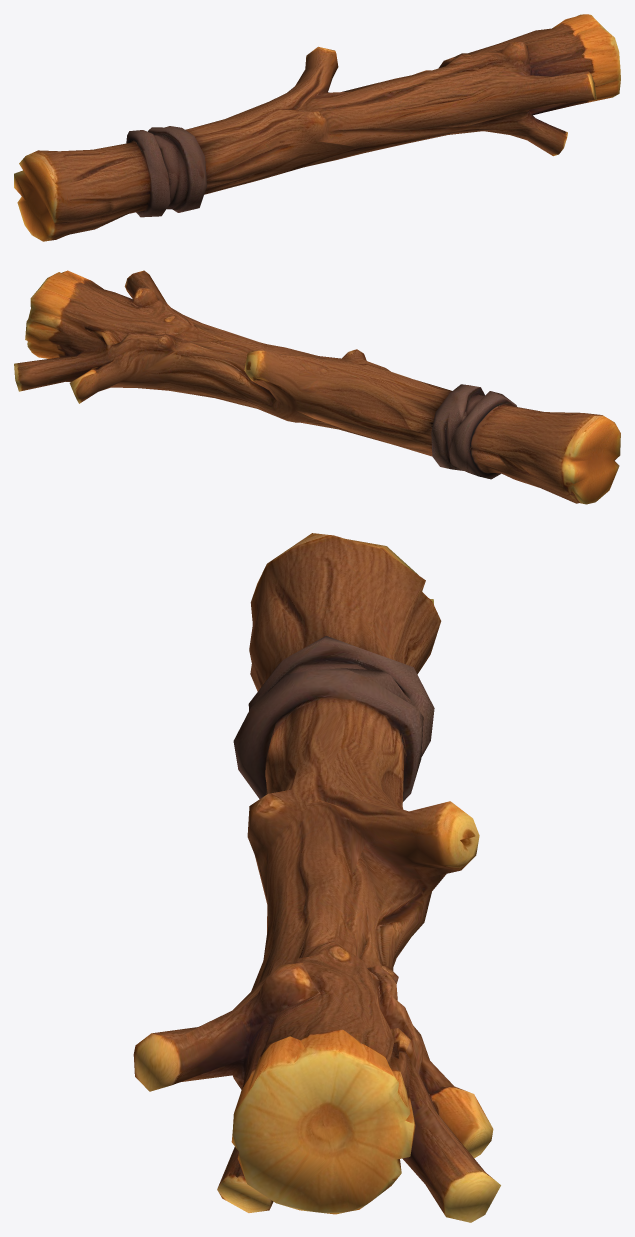
File: weapon_stick_1500_aligned.glb
The picture shows the model from 3 angles, top to bottom: view 1: azimuth 30°, elevation 25°; view 2: azimuth 150°, elevation 25°; view 3: azimuth 270°, elevation 25°; orthographic projection. The views are drawn at different scales.
Visible parts, largest first — view 1: tripo_node_35660a74-3e12-4074-a1b7-b11360de3f39; view 2: tripo_node_35660a74-3e12-4074-a1b7-b11360de3f39; view 3: tripo_node_35660a74-3e12-4074-a1b7-b11360de3f39.
Boxes of the visible parts, x1,y1,x2,y2 form: tripo_node_35660a74-3e12-4074-a1b7-b11360de3f39: [14, 14, 620, 241]; tripo_node_35660a74-3e12-4074-a1b7-b11360de3f39: [14, 270, 620, 504]; tripo_node_35660a74-3e12-4074-a1b7-b11360de3f39: [133, 533, 500, 1222].
Bounding box in the file's own units: 1.02 × 0.2027 × 0.2894.
Materials: 1 (1 with a texture image).
